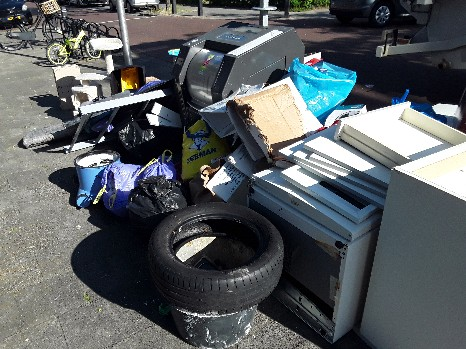Container: (176, 25, 292, 95)
Papier: (233, 98, 315, 153)
Rest: (245, 166, 375, 330), (299, 59, 457, 193), (168, 205, 286, 328), (392, 161, 466, 349), (121, 95, 217, 194), (76, 71, 180, 125), (220, 109, 282, 198), (90, 36, 148, 118), (129, 158, 184, 222), (73, 135, 126, 199), (87, 150, 138, 212)
